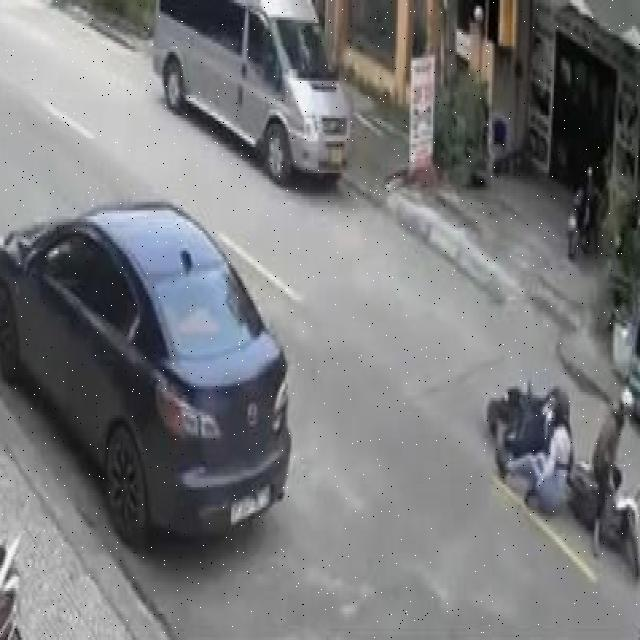accident: (482, 349, 640, 597)
